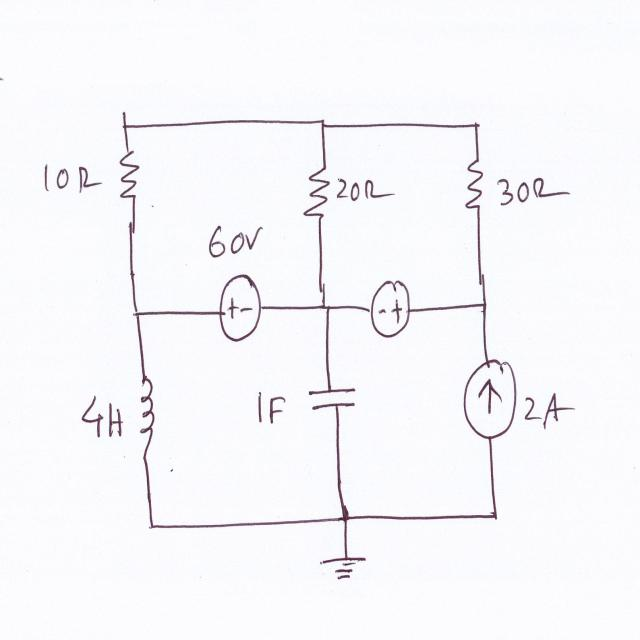capacitor: (306, 383, 362, 414)
current_source: (459, 356, 519, 444)
ground: (317, 552, 372, 586)
inductor: (134, 372, 158, 465)
resistor: (302, 157, 334, 228), (114, 146, 144, 209), (465, 144, 486, 218)
voltage_source: (216, 268, 266, 344), (365, 281, 415, 340)
